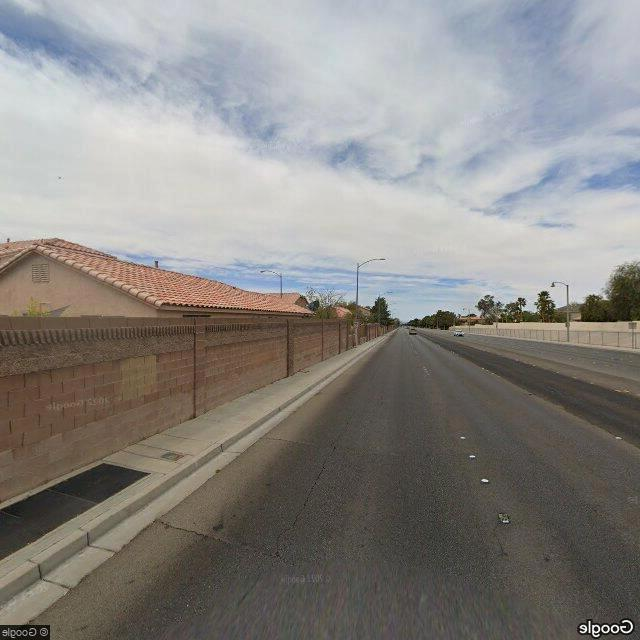pothole: (275, 427, 344, 551)
